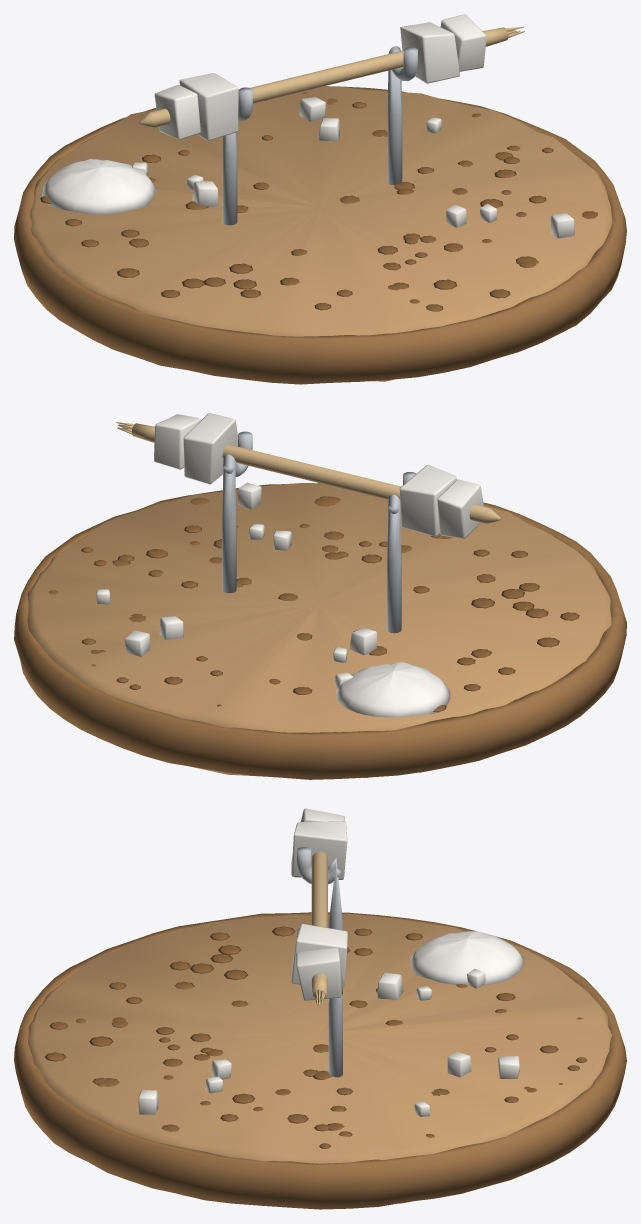
Rendered from training-strengthstation.glb.
3 renders of one model, top to bottom at view 1: azimuth 30°, elevation 25°; view 2: azimuth 150°, elevation 25°; view 3: azimuth 270°, elevation 25°, orthographic.
Visible parts, largest first — view 1: StrengthStation__Cork, StrengthStation__CorkRim, StrengthStation__Weights, StrengthStation__CorkGrains, StrengthStation__Chalk, StrengthStation__Racks, StrengthStation__Bar, StrengthStation__LooseSugar; view 2: StrengthStation__Cork, StrengthStation__CorkRim, StrengthStation__Weights, StrengthStation__CorkGrains, StrengthStation__Chalk, StrengthStation__Racks, StrengthStation__Bar, StrengthStation__LooseSugar; view 3: StrengthStation__Cork, StrengthStation__CorkRim, StrengthStation__CorkGrains, StrengthStation__Weights, StrengthStation__Chalk, StrengthStation__LooseSugar, StrengthStation__Racks, StrengthStation__Bar.
Boxes of the visible parts, box(x1,y1,x2,y2) form: StrengthStation__Cork: box(30, 86, 612, 381); StrengthStation__CorkRim: box(14, 86, 626, 384); StrengthStation__Weights: box(154, 14, 486, 140); StrengthStation__CorkGrains: box(40, 92, 597, 311); StrengthStation__Chalk: box(42, 159, 155, 214); StrengthStation__Racks: box(222, 46, 417, 225); StrengthStation__Bar: box(139, 26, 524, 127); StrengthStation__LooseSugar: box(132, 97, 574, 238); StrengthStation__Cork: box(27, 483, 611, 777); StrengthStation__CorkRim: box(14, 483, 626, 779); StrengthStation__Weights: box(154, 413, 483, 538); StrengthStation__CorkGrains: box(48, 496, 579, 711); StrengthStation__Chalk: box(336, 662, 450, 717); StrengthStation__Racks: box(222, 431, 416, 633); StrengthStation__Bar: box(116, 422, 500, 523); StrengthStation__LooseSugar: box(96, 482, 376, 688); StrengthStation__Cork: box(28, 913, 611, 1203); StrengthStation__CorkRim: box(14, 912, 626, 1209); StrengthStation__CorkGrains: box(45, 926, 587, 1148); StrengthStation__Weights: box(291, 808, 347, 1000); StrengthStation__Chalk: box(410, 931, 524, 985); StrengthStation__LooseSugar: box(138, 968, 519, 1116); StrengthStation__Racks: box(297, 847, 342, 1077); StrengthStation__Bar: box(311, 851, 327, 1005).
Bounding box in the file's own units: 27.04 × 10.3 × 27.06.
